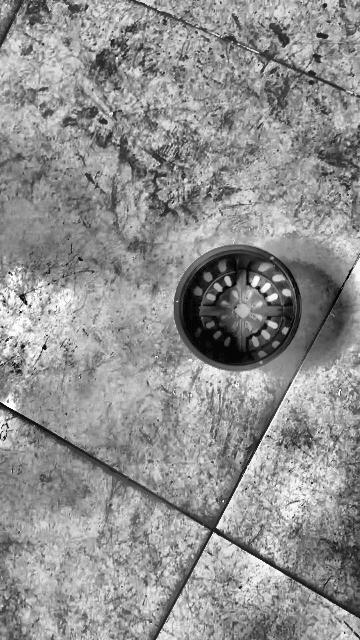pot: (174, 245, 301, 370)
